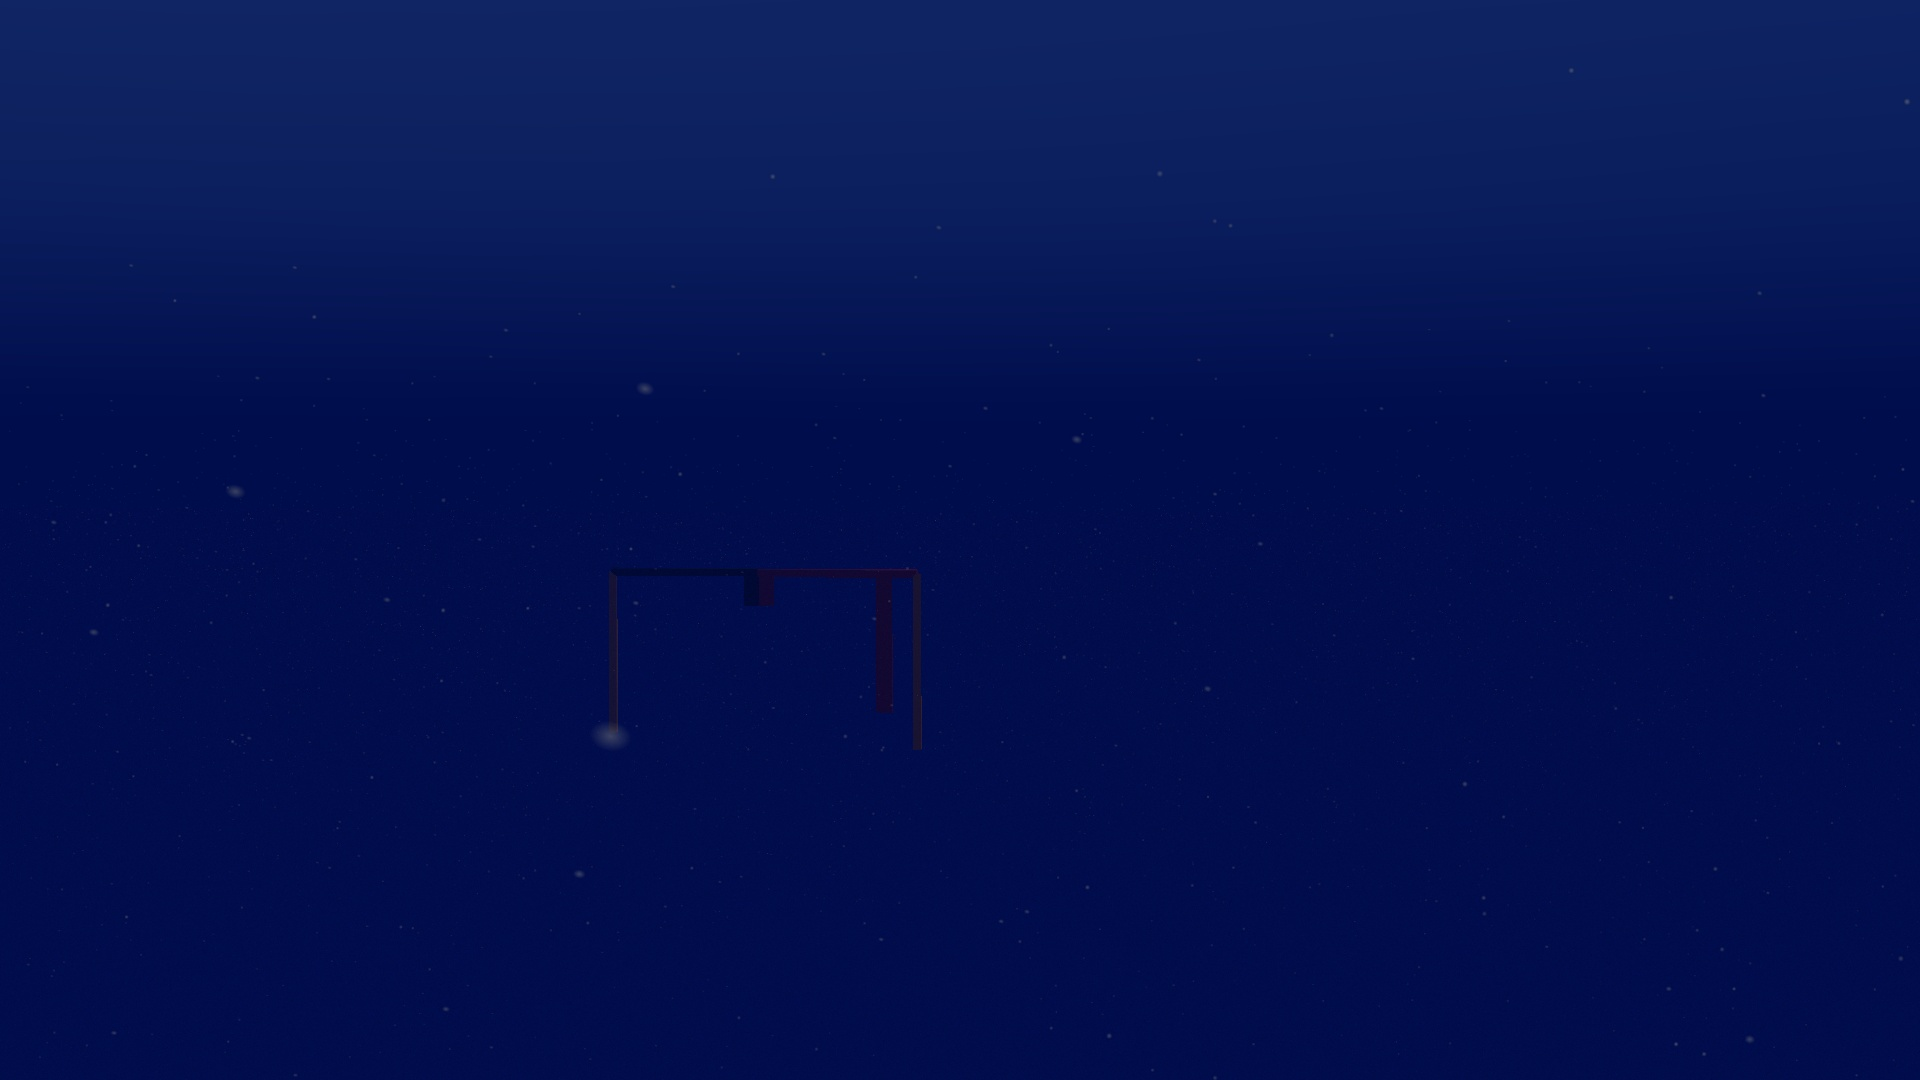Gate: (600, 560, 931, 764)
